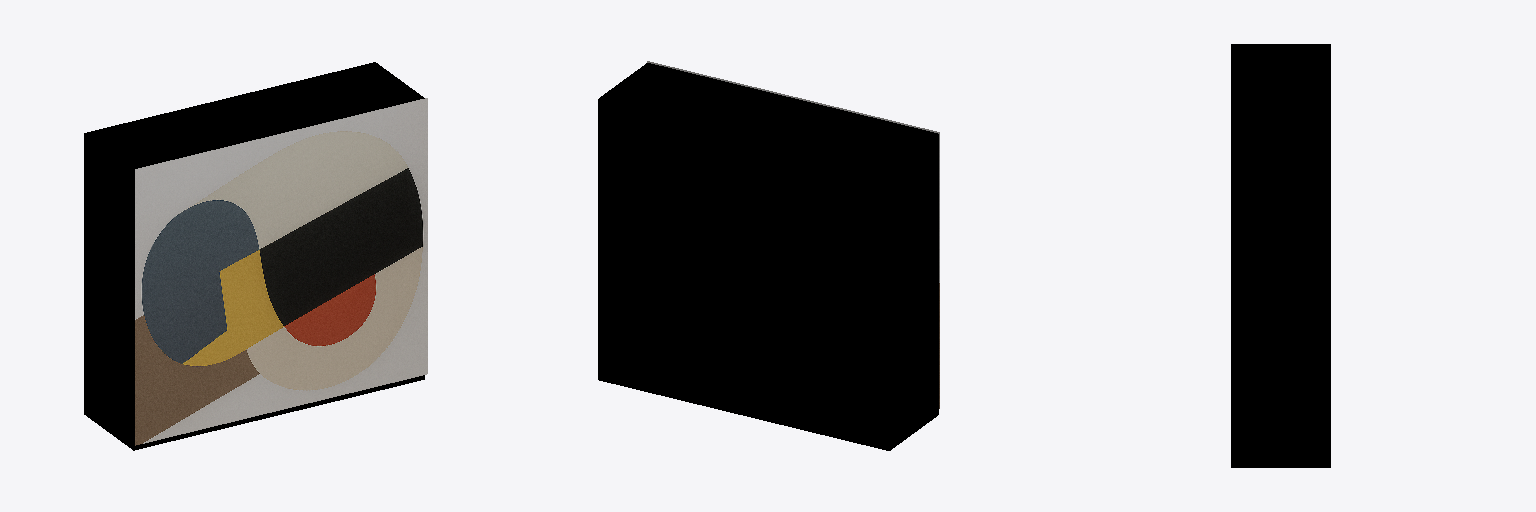
The picture shows the model from 3 angles: view 1: azimuth 30°, elevation 25°; view 2: azimuth 150°, elevation 25°; view 3: azimuth 270°, elevation 25°; orthographic projection.
Visible parts, largest first — view 1: mesh_id1, mesh_id39; view 2: mesh_id39, mesh_id1; view 3: mesh_id39.
Part boxes in pixels (x1,y1,x2,y2): mesh_id1: (135, 98, 427, 445); mesh_id39: (84, 62, 424, 450); mesh_id39: (598, 63, 938, 450); mesh_id1: (647, 61, 939, 408); mesh_id39: (1231, 44, 1330, 467).
Bounding box in the file's own units: 0.8701 × 0.7993 × 0.2596.
Materials: 1 (1 with a texture image).